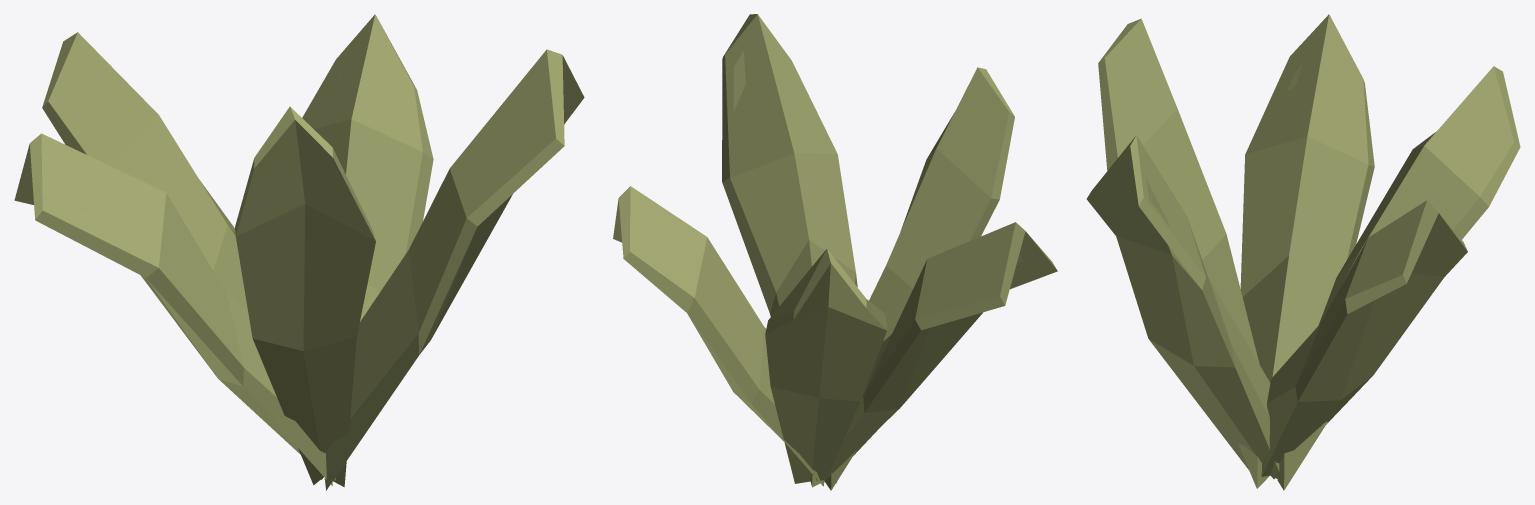
The model's file is Aleo_2.fbx.
3 views of the same model, side by side, from view 1: azimuth 30°, elevation 25°; view 2: azimuth 150°, elevation 25°; view 3: azimuth 270°, elevation 25° (orthographic). The views are drawn at different scales.
Visible parts, largest first — view 1: Aloe_2; view 2: Aloe_2; view 3: Aloe_2.
Boxes of the visible parts, x1,y1,x2,y2 form: Aloe_2: [14, 14, 584, 490]; Aloe_2: [613, 14, 1057, 490]; Aloe_2: [1086, 14, 1520, 490].
Bounding box in the file's own units: 0.0374 × 0.0349 × 0.0328.
